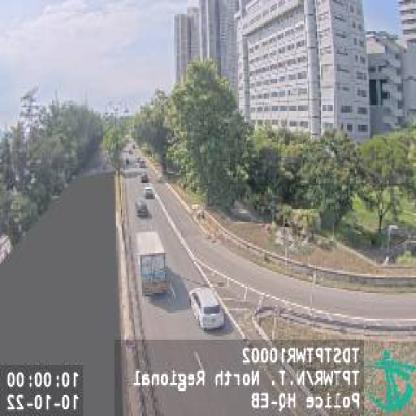Car: (190, 285, 224, 330), (135, 203, 146, 218), (144, 188, 154, 198)
Truck: (139, 229, 168, 297)
